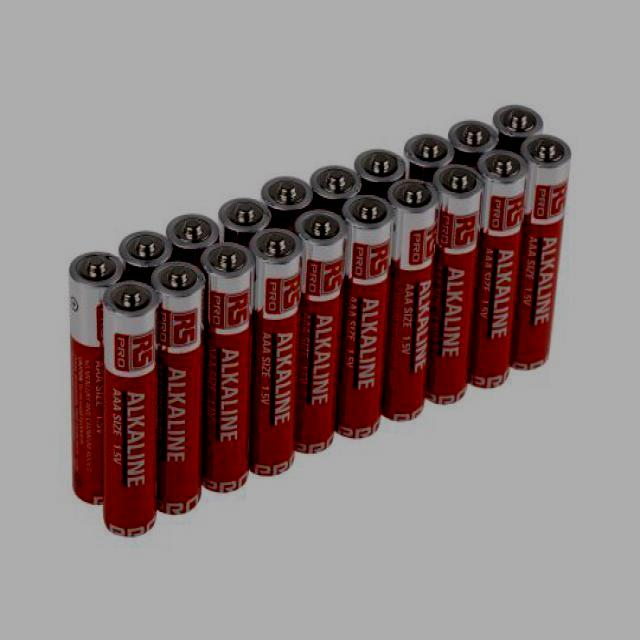AAA: (230, 222, 306, 483), (61, 249, 128, 507), (420, 159, 486, 414), (463, 147, 530, 395), (377, 174, 442, 429), (333, 195, 397, 450), (102, 279, 164, 542), (195, 240, 257, 500), (147, 262, 208, 520), (288, 204, 349, 456), (514, 128, 574, 380)
